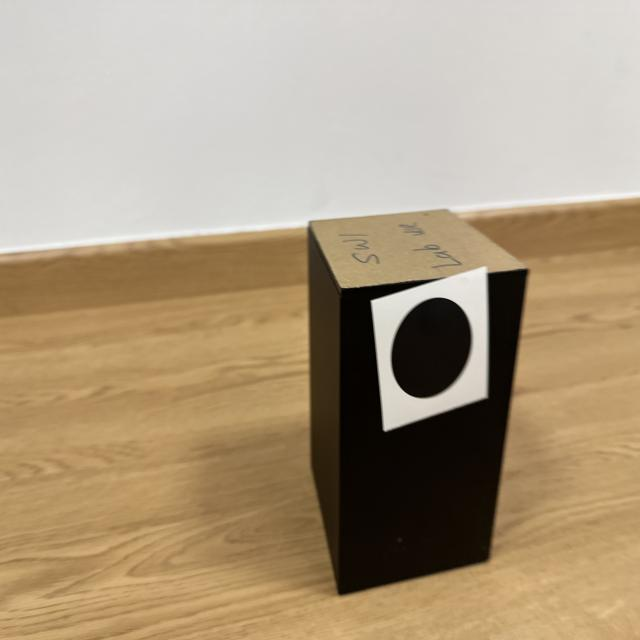CIRCLE: (391, 298, 471, 398)
